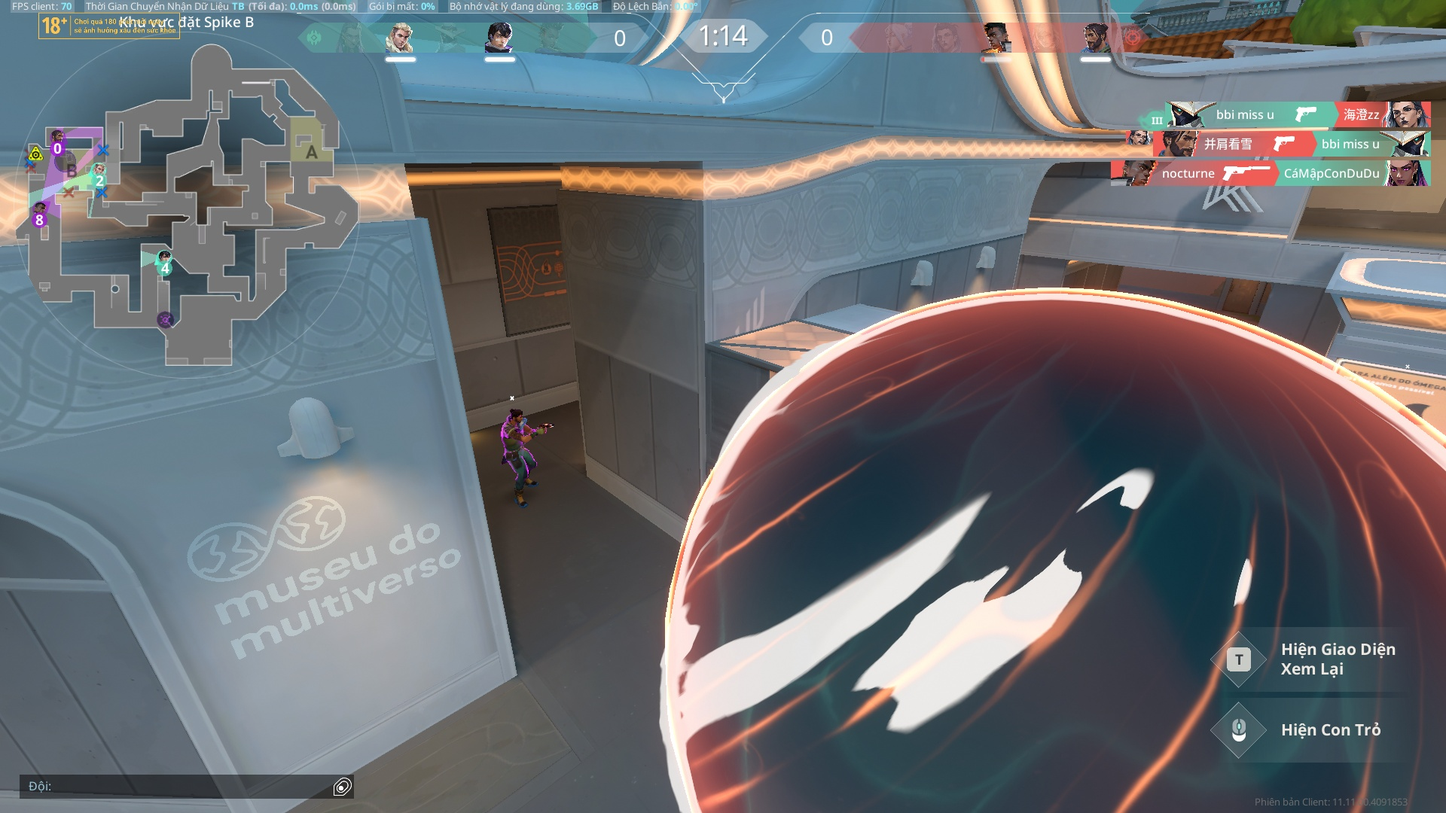body: (499, 417, 527, 448)
head: (509, 406, 524, 422)
